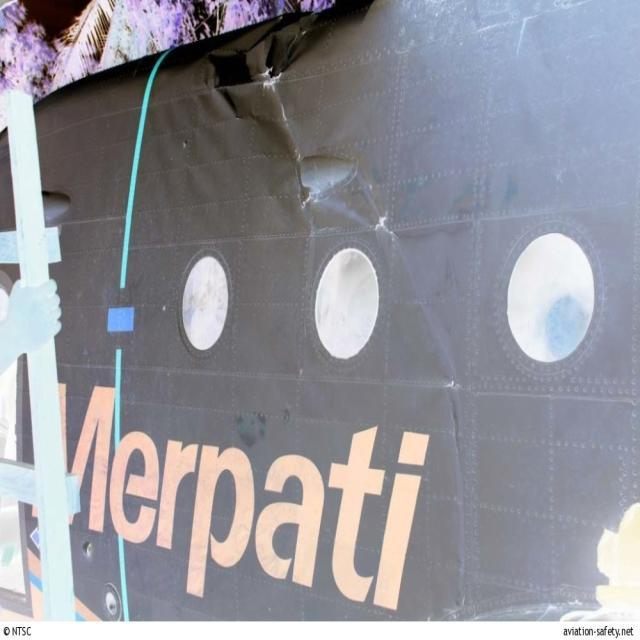crack: (257, 69, 290, 127), (374, 211, 397, 245)
dent: (254, 12, 324, 81), (212, 47, 253, 120)
